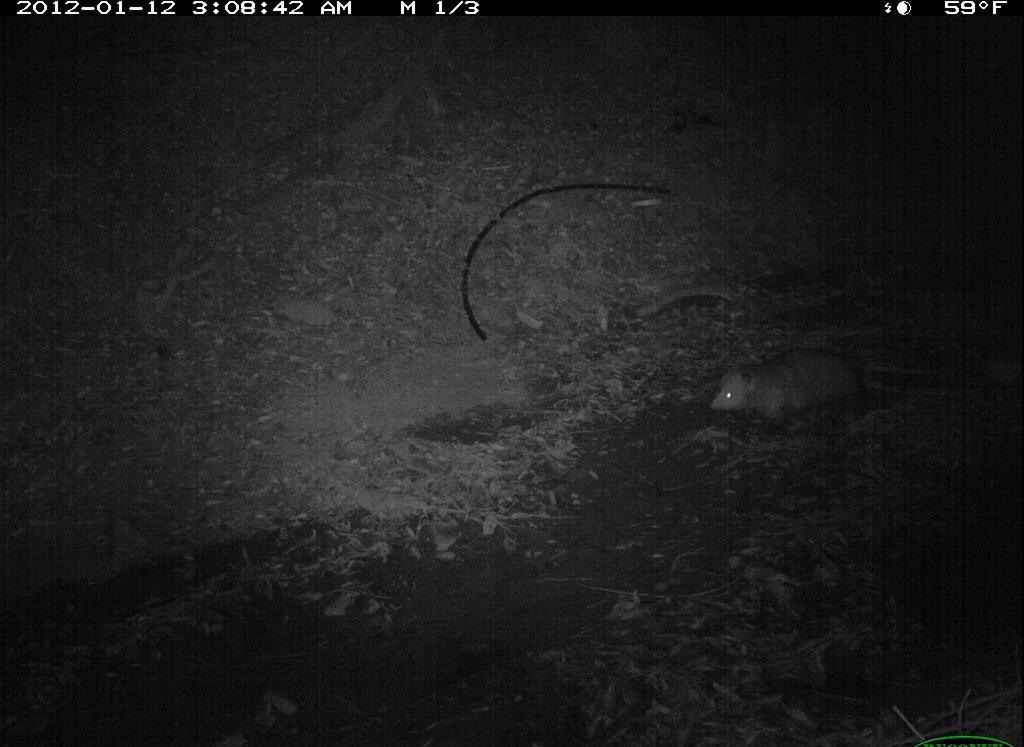opossum: (702, 340, 895, 443)
